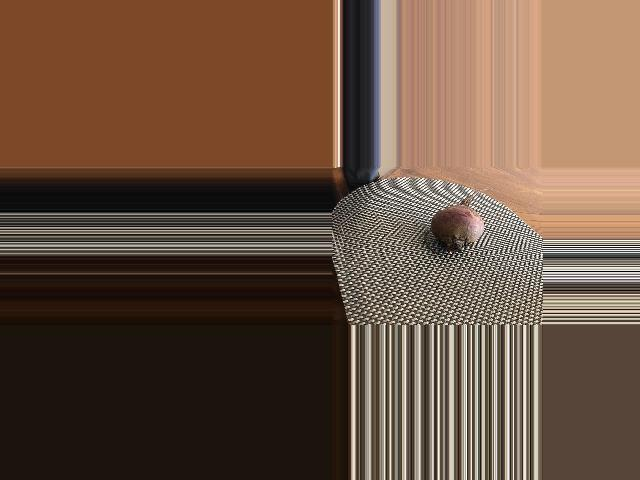beet: (423, 189, 492, 254)
